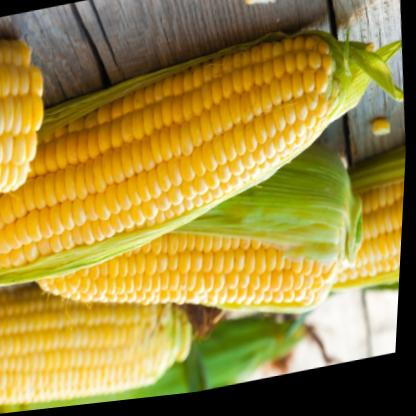corn: (0, 29, 357, 284), (25, 184, 358, 370), (0, 271, 207, 415), (323, 173, 407, 303), (0, 12, 56, 204)
